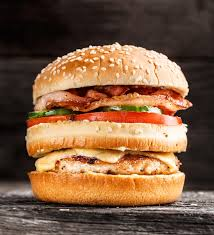hamburger: (23, 42, 189, 205)
